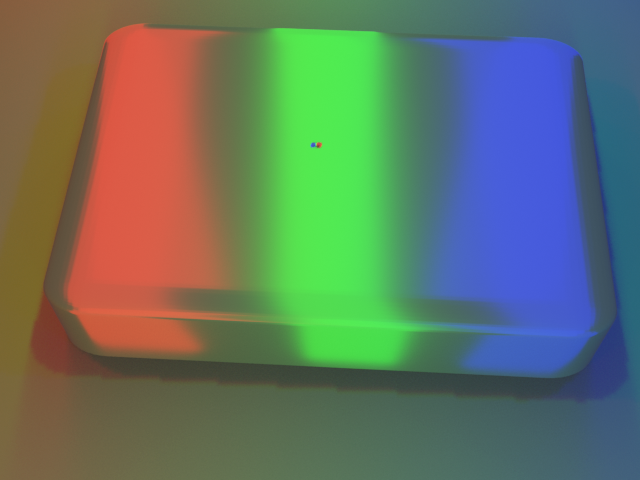dent: (301, 121, 335, 158)
